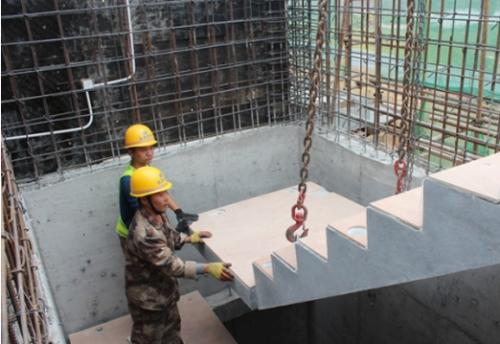gloves: (205, 261, 234, 281), (174, 208, 198, 224), (189, 230, 212, 244), (174, 219, 190, 233)
hard-hat: (129, 165, 172, 198), (122, 123, 157, 149)
person: (123, 164, 234, 344), (114, 123, 211, 253)
ppe-suit: (122, 206, 198, 344)
